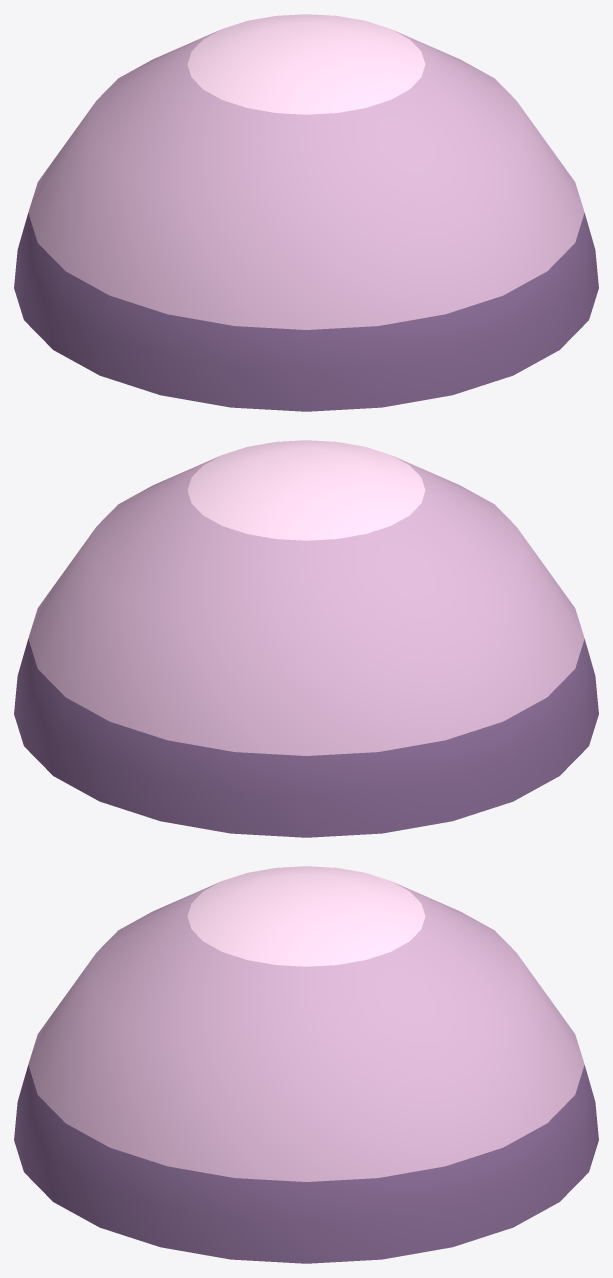
Rendered from shot_gum_mauve.glb.
3 views of the same model, one above another, from view 1: azimuth 30°, elevation 25°; view 2: azimuth 150°, elevation 25°; view 3: azimuth 270°, elevation 25° (orthographic).
Parts seen in each view (by area): view 1: gum_ball; view 2: gum_ball; view 3: gum_ball.
Part boxes in pixels (x1=…): gum_ball: x1=14, y1=14, x2=598, y2=411; gum_ball: x1=14, y1=440, x2=598, y2=837; gum_ball: x1=14, y1=866, x2=598, y2=1263.
Size of the model in its own units: 10.5 by 4.85 by 10.5.
